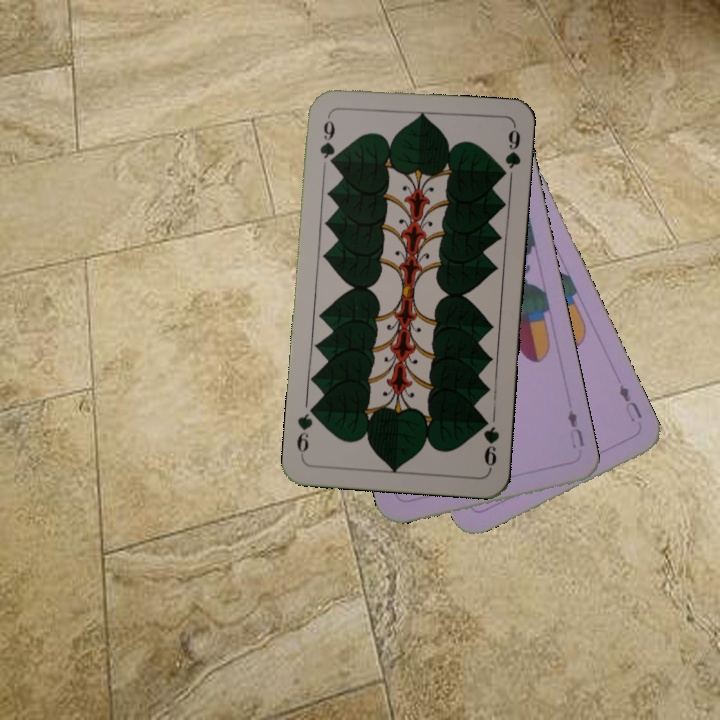EU: (613, 375, 645, 425), (563, 405, 587, 451)
G9: (477, 413, 502, 473), (316, 111, 338, 169)
